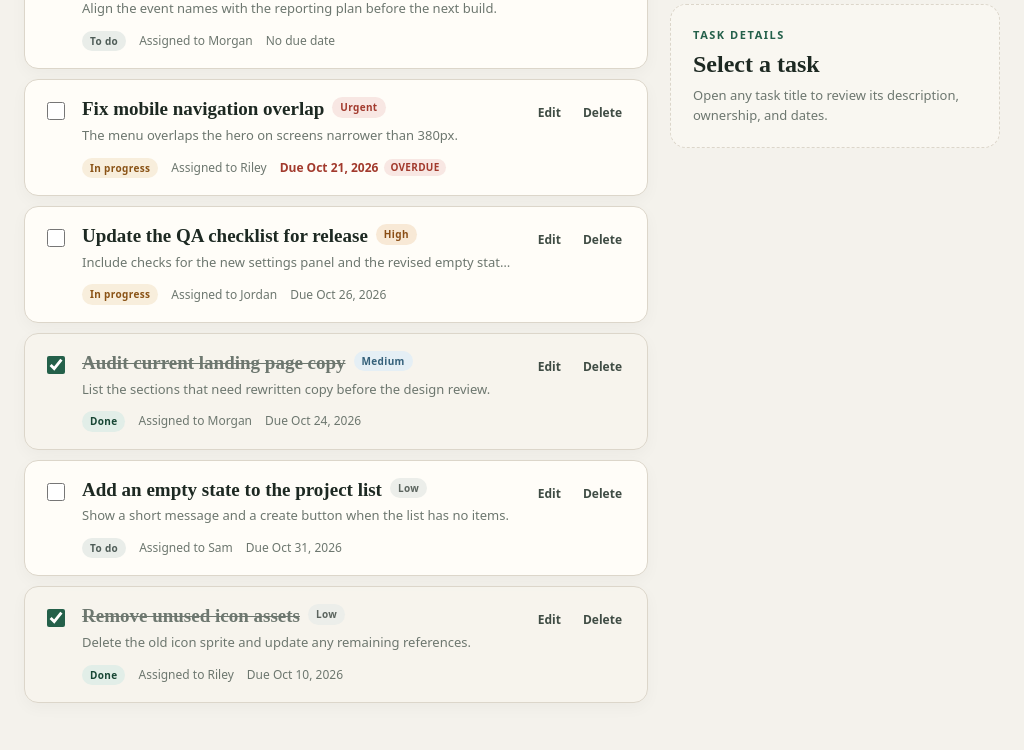
it: TaskBoard › edits a task title
The image size is (1024, 750).
(page scrolled)
Click the button with aria-label "Edit Audit current landing page copy". click: [549, 367]
box: [531, 353, 568, 381]
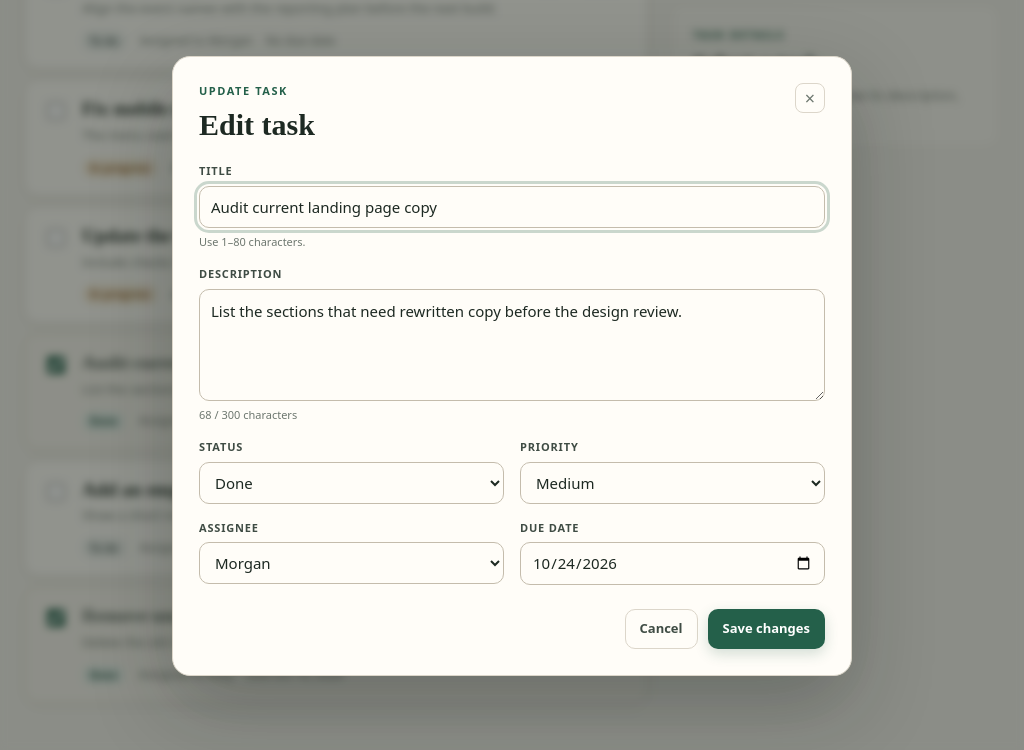
Replace the text in the field labelled "Title" with "Audit the revised landing page copy". click: [512, 207]
box: [199, 186, 825, 228]
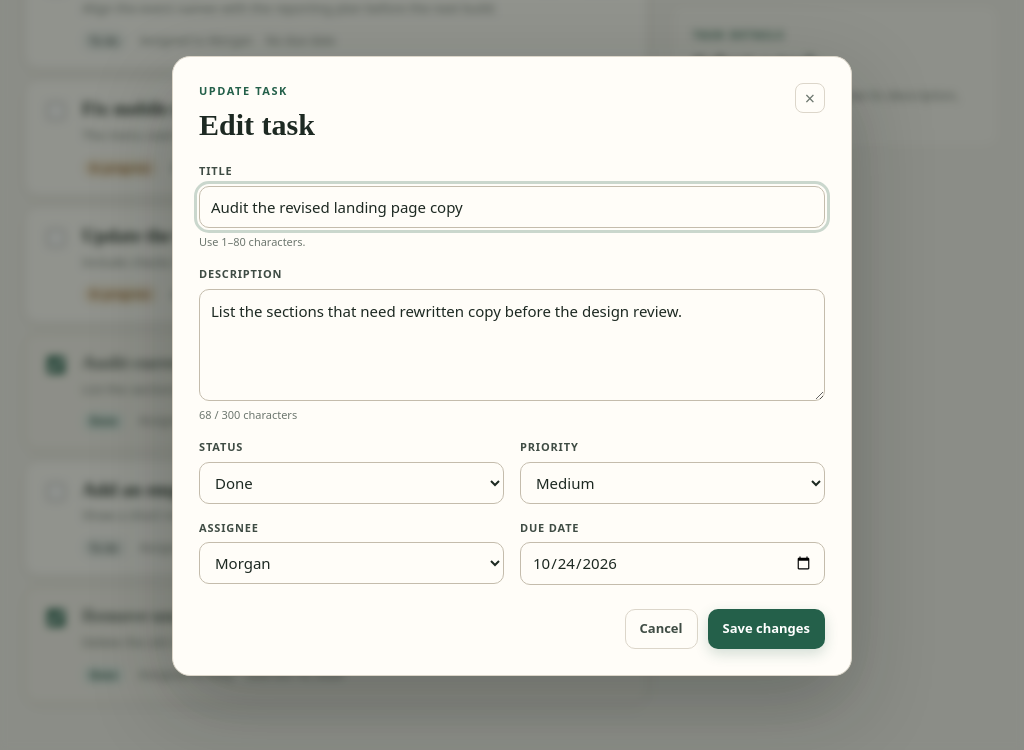
Click the button "Save changes". click: [766, 629]
box: [708, 609, 825, 649]
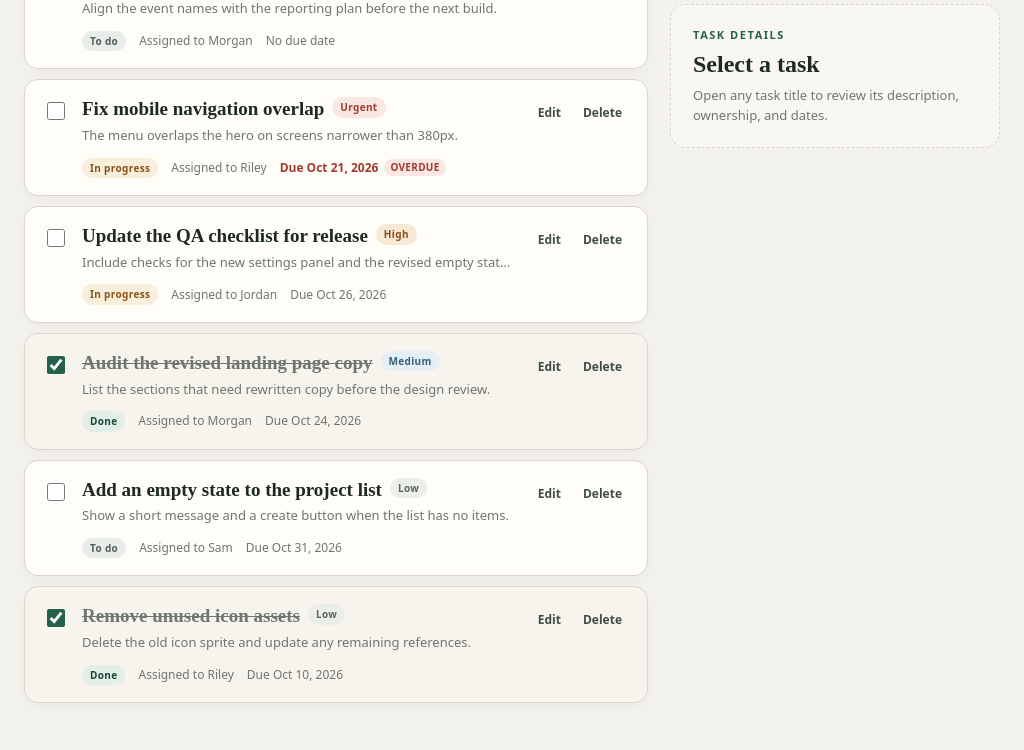
Expected: the button "Audit the revised landing page copy" is shown, [82, 351, 372, 375]
